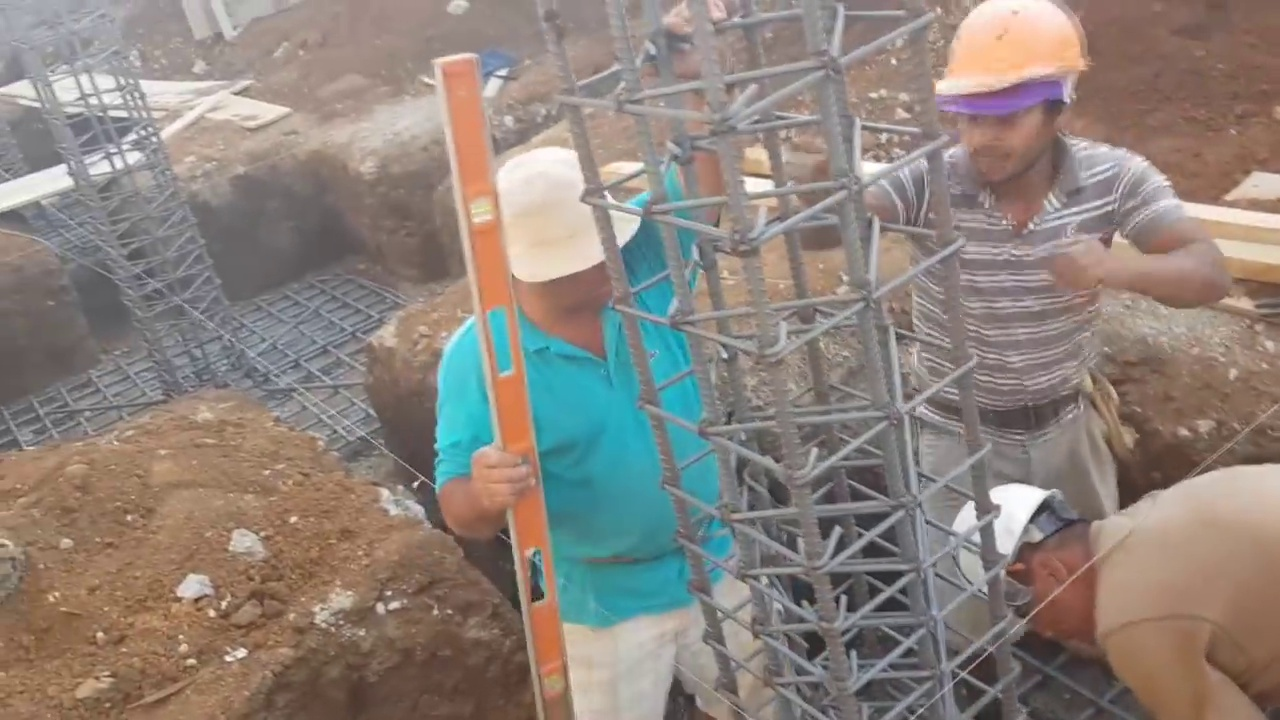helmet: (931, 0, 1101, 104), (955, 474, 1054, 605)
helmet-off: (479, 147, 663, 368)
helmet-on: (943, 1, 1100, 186), (953, 477, 1083, 650)
person: (786, 0, 1244, 516), (418, 1, 751, 689), (907, 464, 1280, 713)
